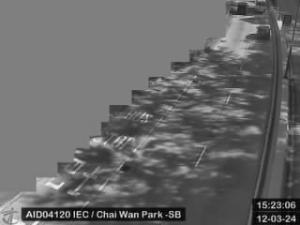bus: (256, 0, 266, 12)
vehicle: (256, 27, 270, 42), (238, 3, 248, 15)
